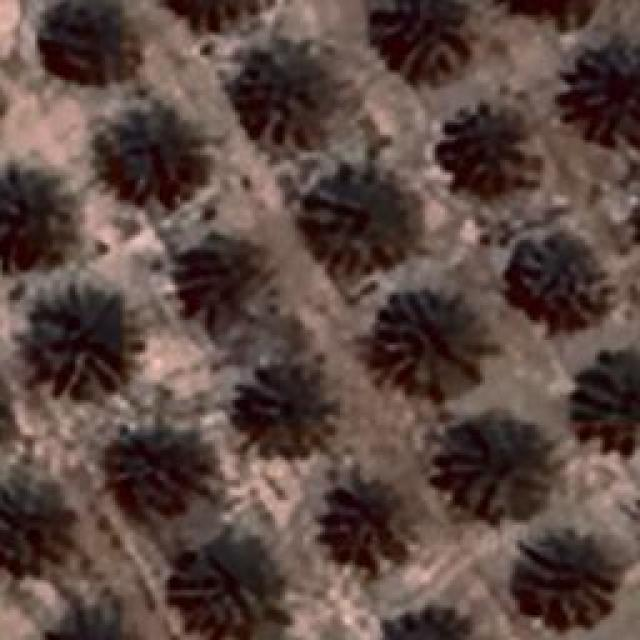PalmTree: (70, 41, 99, 619), (31, 95, 70, 518), (372, 285, 490, 393), (20, 282, 130, 396), (161, 538, 279, 632), (306, 177, 419, 275), (94, 112, 208, 206), (315, 465, 420, 565), (232, 362, 332, 458), (434, 94, 528, 196), (104, 428, 212, 516), (232, 40, 330, 135), (444, 418, 544, 510), (508, 238, 602, 332), (521, 531, 611, 629), (368, 0, 470, 85), (0, 168, 82, 266), (52, 0, 140, 90), (174, 235, 268, 318), (570, 338, 638, 452), (567, 51, 640, 138), (158, 0, 270, 29), (380, 608, 478, 640), (498, 0, 602, 26), (0, 366, 14, 462), (0, 369, 11, 458)
